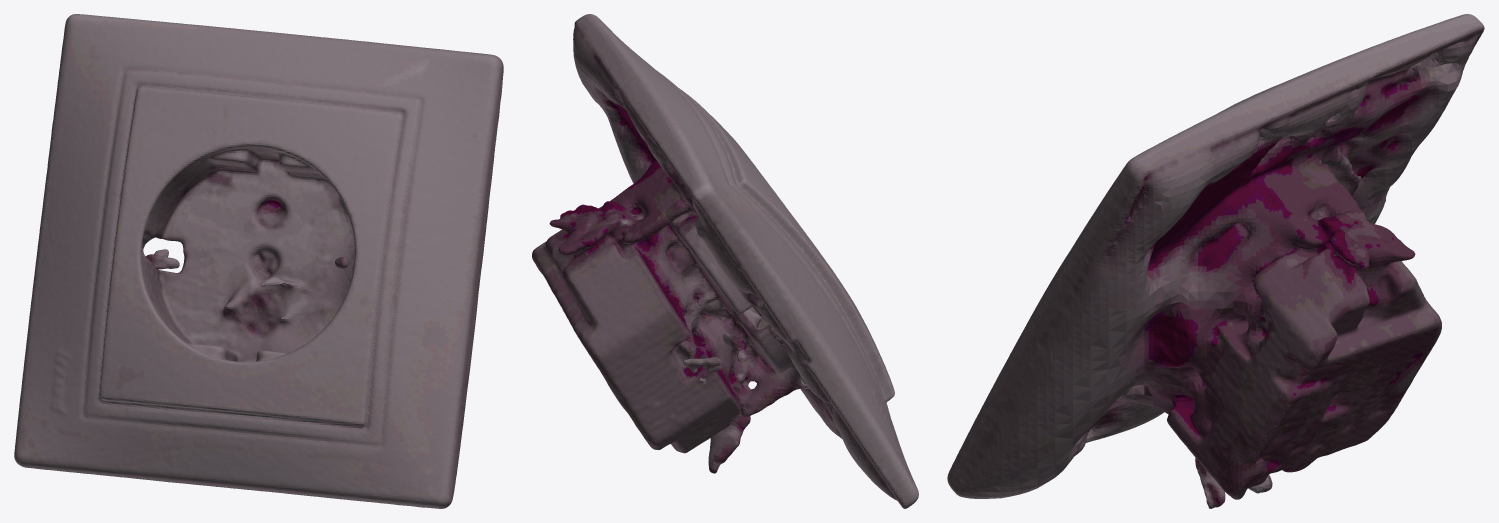
The picture shows the model from 3 angles, left to right: view 1: azimuth 30°, elevation 25°; view 2: azimuth 150°, elevation 25°; view 3: azimuth 270°, elevation 25°; orthographic projection. The views are drawn at different scales.
Size of the model in its own units: 87.55 by 78.07 by 86.65.
